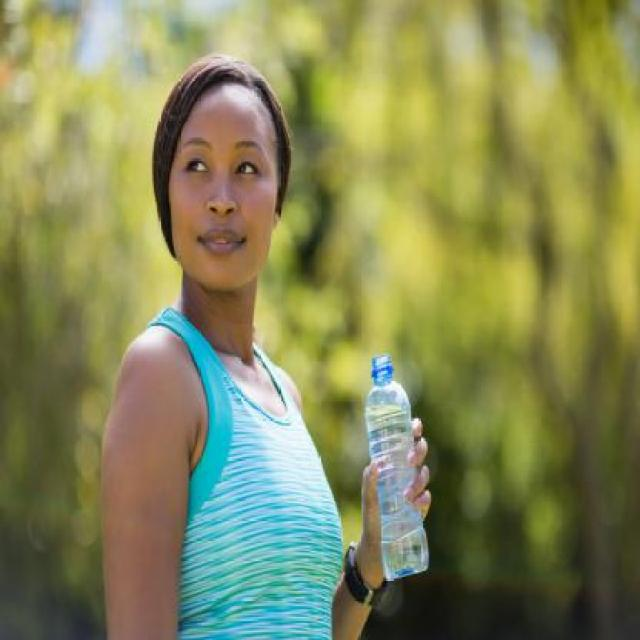Drinking: (359, 343, 436, 574)
